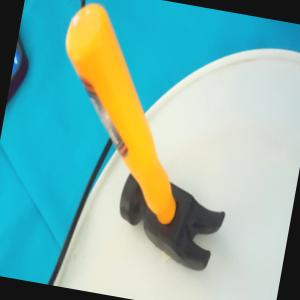martelo: (25, 0, 260, 277)
